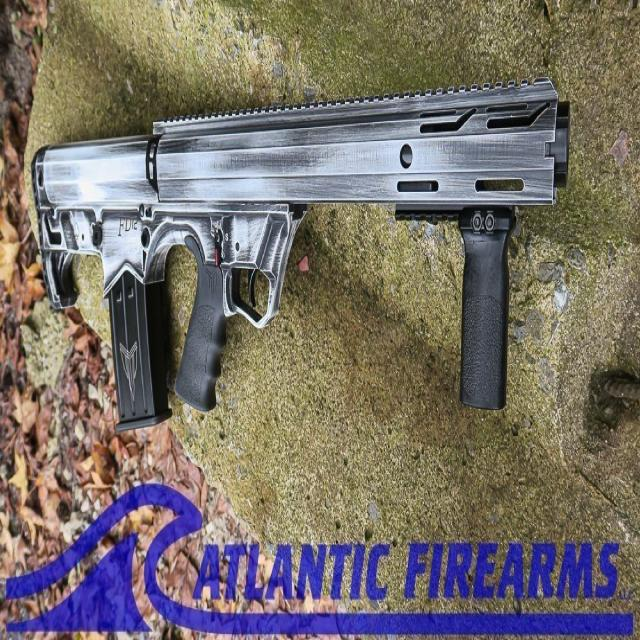ShotGun: (31, 79, 570, 430)
